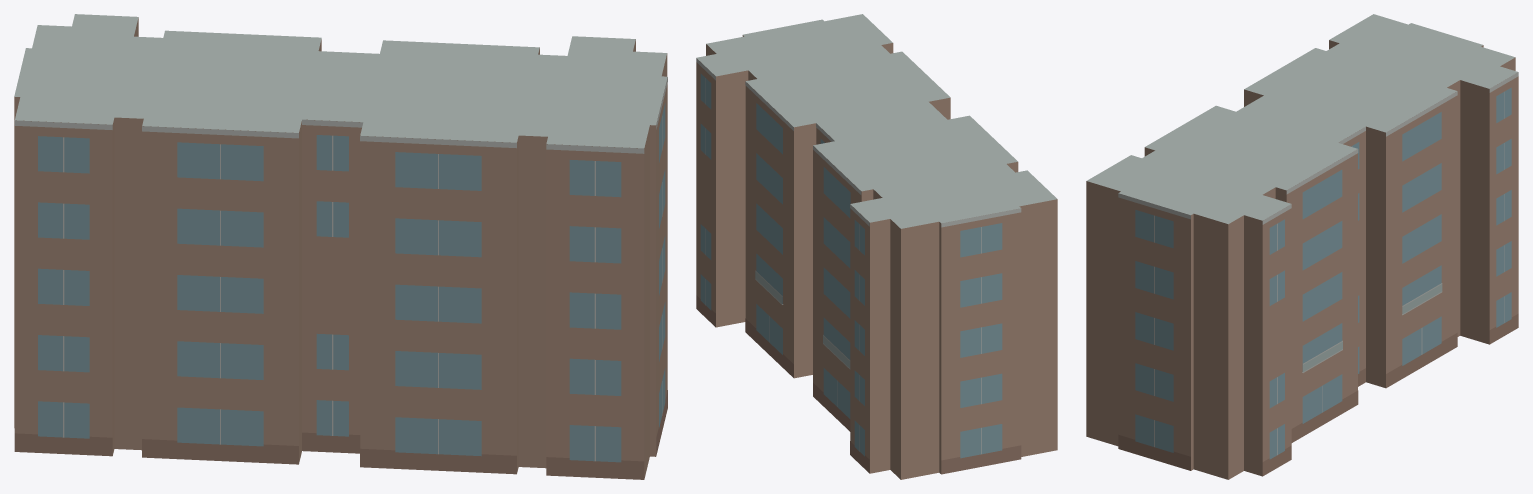
The model's file is survey-upis-32977309.glb.
The picture shows the model from 3 angles, left to right: view 1: azimuth 30°, elevation 25°; view 2: azimuth 150°, elevation 25°; view 3: azimuth 270°, elevation 25°; orthographic projection. The views are drawn at different scales.
Visible parts, largest first — view 1: survey-upis-32977309.tmp; view 2: survey-upis-32977309.tmp; view 3: survey-upis-32977309.tmp.
Part boxes in pixels (box(x1,y1,x2,y2)): survey-upis-32977309.tmp: box(14, 14, 667, 479); survey-upis-32977309.tmp: box(696, 14, 1057, 479); survey-upis-32977309.tmp: box(1086, 14, 1518, 479).
Bounding box in the file's own units: 26.18 × 14.85 × 22.75.
